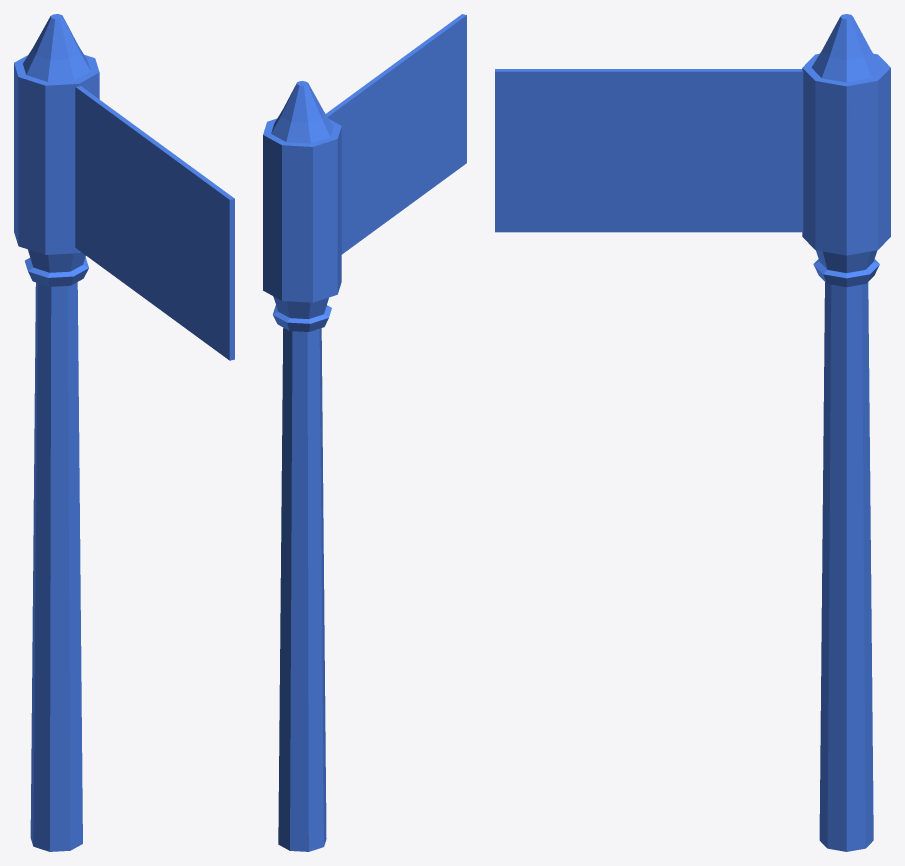
The model's file is Flag_Variant1.fbx.
3 renders of one model, left to right at view 1: azimuth 30°, elevation 25°; view 2: azimuth 150°, elevation 25°; view 3: azimuth 270°, elevation 25°, orthographic. The views are drawn at different scales.
Visible parts, largest first — view 1: Flag_Variant1; view 2: Flag_Variant1; view 3: Flag_Variant1.
Boxes of the visible parts, bbox=[...] form: Flag_Variant1: bbox=[14, 14, 234, 851]; Flag_Variant1: bbox=[263, 14, 466, 851]; Flag_Variant1: bbox=[495, 14, 890, 851].
Bounding box in the file's own units: 26.96 × 277 × 120.
